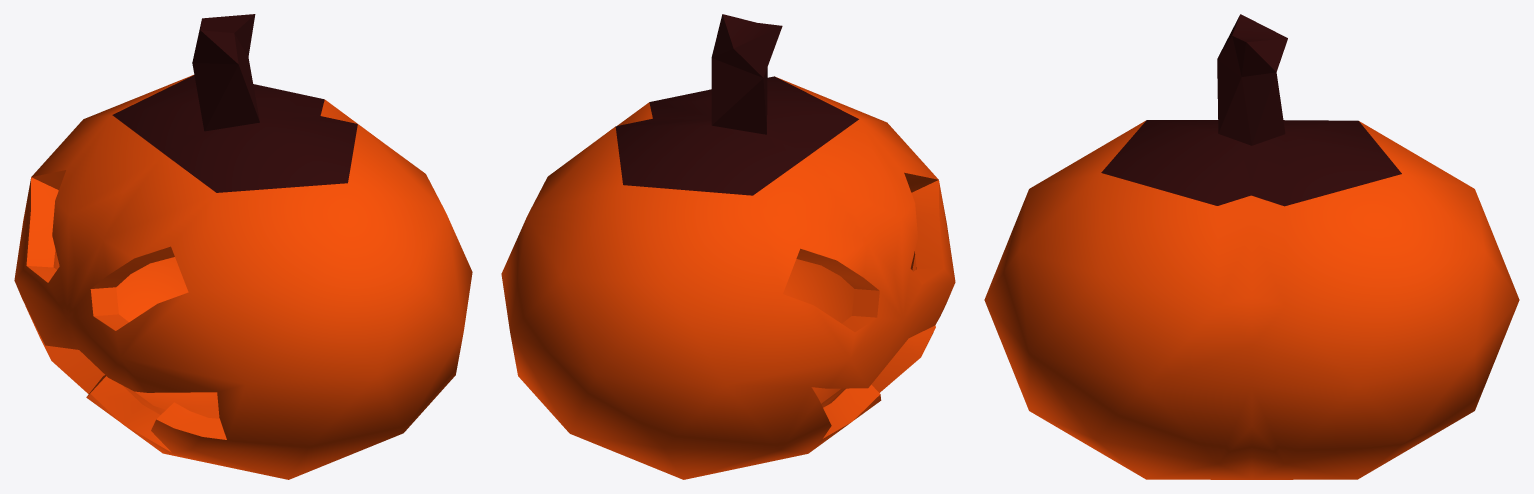
File: citrouille.fbx
3 renders of one model, left to right at view 1: azimuth 30°, elevation 25°; view 2: azimuth 150°, elevation 25°; view 3: azimuth 270°, elevation 25°, orthographic.
Parts seen in each view (by area): view 1: GeoSphere003; view 2: GeoSphere003; view 3: GeoSphere003.
Part boxes in pixels (<box>): GeoSphere003: <box>14,14,472,479</box>; GeoSphere003: <box>501,14,955,479</box>; GeoSphere003: <box>984,14,1519,479</box>.
Size of the model in its own units: 74.91 by 86.81 by 98.37.
